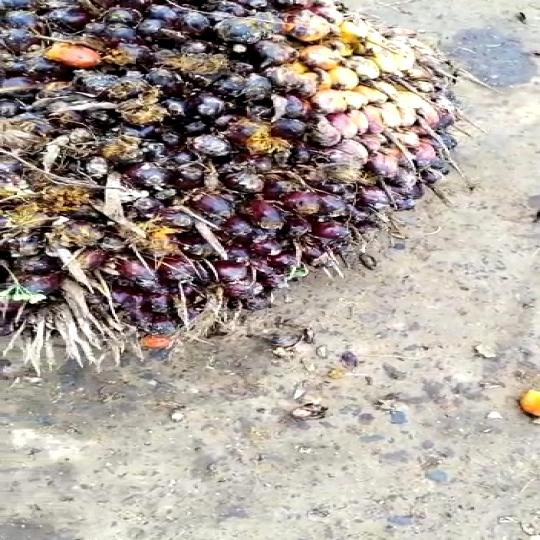mentah: (0, 0, 453, 343)
